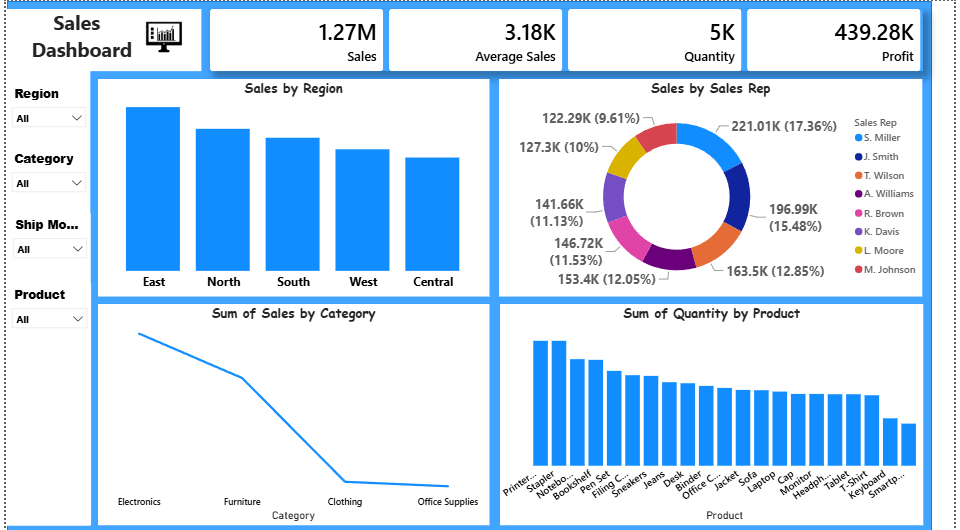

The dashboard page shown, as its layout file describes it:
{"tool":"powerbi","page":{"name":"Page 1","canvas":[1280,720],"ordinal":0},"visuals":[{"type":"shape","box":[100,100,300,300],"z":0},{"type":"shape","box":[1.4,0,1250,720],"z":1000},{"type":"textbox","box":[0,11.7,114.1,696.6],"z":2000},{"type":"cardVisual","fields":{"Data":["Sum(Table1.Sales)","Table1.Average Sales","Sum(Table1.Quantity)","Sum(Table1.Profit)"]},"box":[275.7,11.4,962.9,84.3],"z":3000},{"type":"slicer","fields":{"Values":["Table1.Region"]},"box":[0,110,113.3,215],"z":4000},{"type":"clusteredColumnChart","title":"Sales by Region","fields":{"Category":["Table1.Region"],"Y":["Sum(Table1.Sales)"]},"box":[124.3,105.7,528.6,294.3],"z":5000},{"type":"slicer","fields":{"Values":["Table1.Category"]},"box":[0,196.7,113.3,196.7],"z":6000},{"type":"donutChart","title":"Sales by Sales Rep","fields":{"Category":["Table1.Sales Rep"],"Y":["Sum(Table1.Sales)"]},"box":[665.9,105.4,572.2,294.1],"z":7000},{"type":"lineChart","fields":{"Category":["Table1.Category"],"Y":["Sum(Table1.Sales)"]},"box":[124.3,409.5,528.4,298.6],"z":8000},{"type":"clusteredColumnChart","fields":{"Category":["Table1.Product"],"Y":["Sum(Table1.Quantity)"]},"box":[667.3,409.8,572.2,298.5],"z":9000},{"type":"slicer","fields":{"Values":["Table1.Ship Mode"]},"box":[1.7,286.7,113.3,218.3],"z":10000},{"type":"textbox","box":[0,11.4,264.3,84.3],"z":11000},{"type":"slicer","fields":{"Values":["Table1.Product"]},"box":[0,381.7,115,326.7],"z":12000},{"type":"image","box":[177.1,4.3,72.9,95.7],"z":13000}]}

Visuals, with their boxes in screenshot pixels (x1, y1, x2, y2), scaled from the page's 1280x720 canvas onto the 960x530 screenshot:
shape: detection(75, 74, 300, 294)
shape: detection(1, 0, 939, 529)
textbox: detection(0, 9, 86, 521)
cardVisual - Sum(Table1.Sales) x Table1.Average Sales: detection(207, 8, 929, 70)
slicer - Table1.Region: detection(0, 81, 85, 239)
"Sales by Region" clusteredColumnChart: detection(93, 78, 490, 294)
slicer - Table1.Category: detection(0, 145, 85, 290)
"Sales by Sales Rep" donutChart: detection(499, 78, 929, 294)
lineChart - Table1.Category x Sum(Table1.Sales): detection(93, 301, 490, 521)
clusteredColumnChart - Table1.Product x Sum(Table1.Quantity): detection(500, 302, 930, 521)
slicer - Table1.Ship Mode: detection(1, 211, 86, 372)
textbox: detection(0, 8, 198, 70)
slicer - Table1.Product: detection(0, 281, 86, 521)
image: detection(133, 3, 188, 74)
